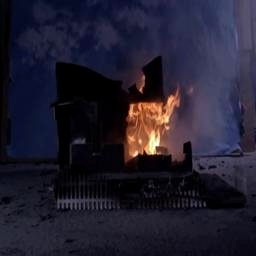fire: (115, 76, 183, 166)
